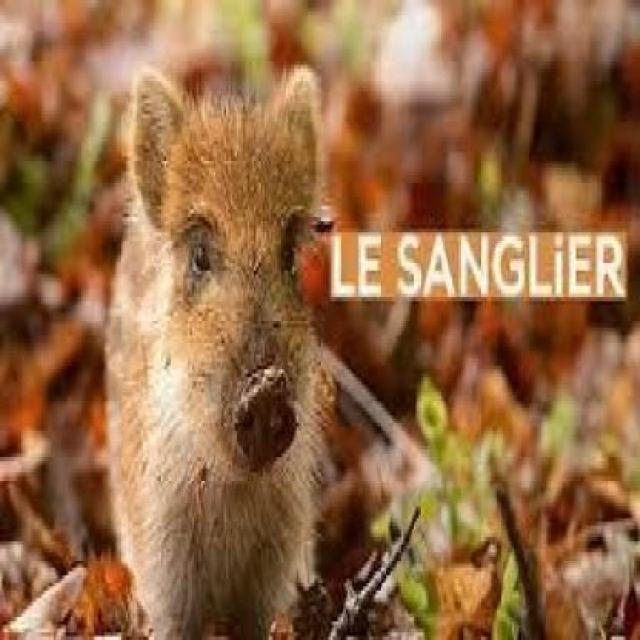wildboar: (102, 58, 336, 640)
